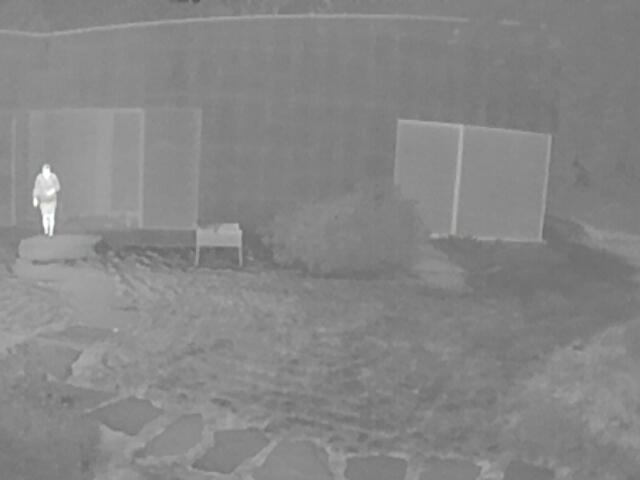person: (32, 164, 59, 237)
